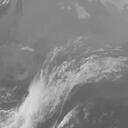cyclone: (40, 58, 83, 93)
